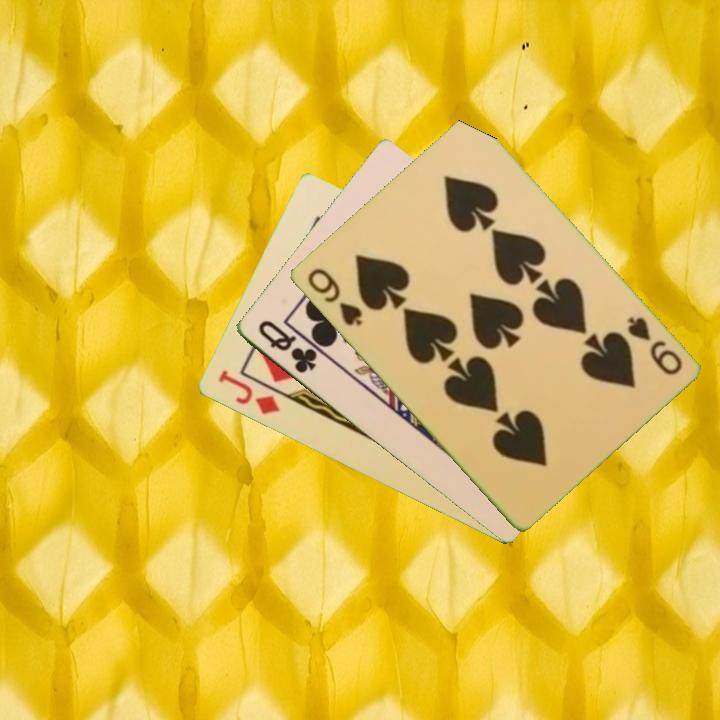9s: (623, 312, 685, 378), (303, 264, 365, 329)
Jd: (214, 367, 282, 418)
Qc: (254, 316, 320, 377)
